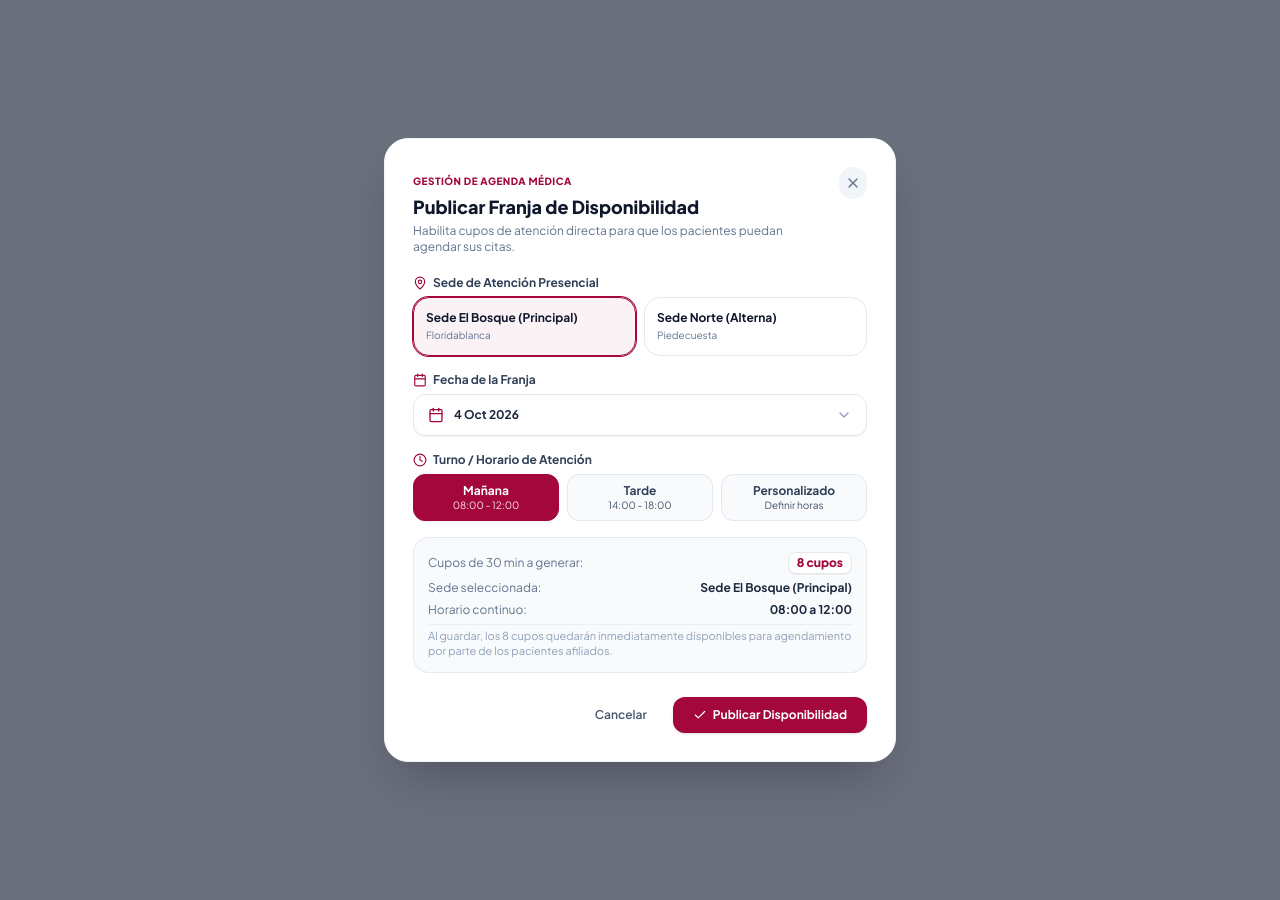
it: Doctor Availability Management (RF-08) › displays error feedback when API rejects block creation
Click the button "Publicar Disponibilidad". click: (770, 715)
box: [673,697,867,733]
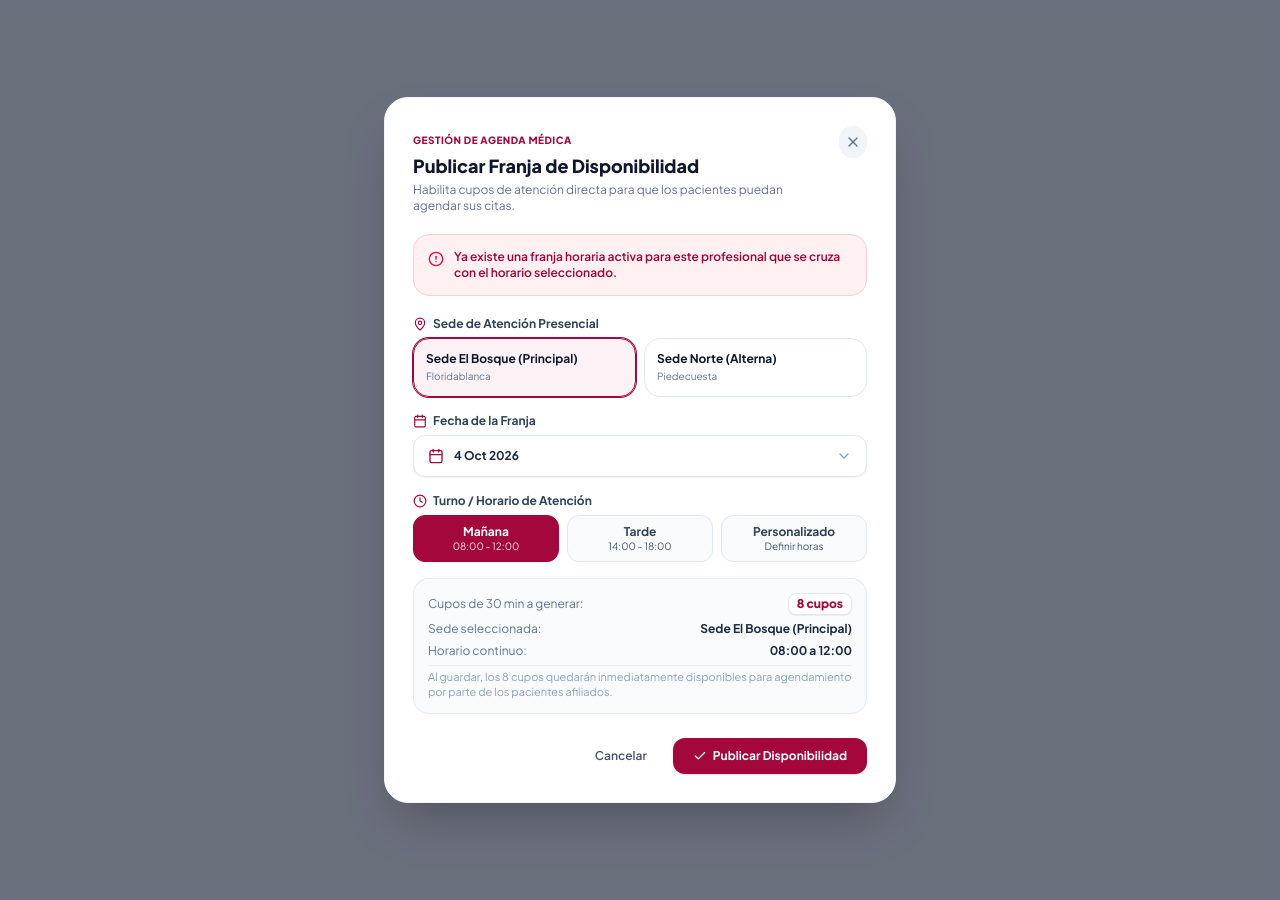
Now the text "Ya existe una franja horaria activa para este profesional que se cruza con el horario seleccionado." is shown, box [454,249,840,280]
